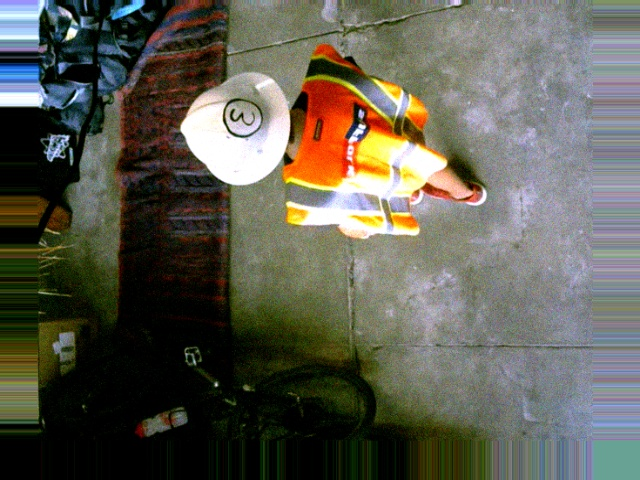three: (221, 98, 261, 138)
